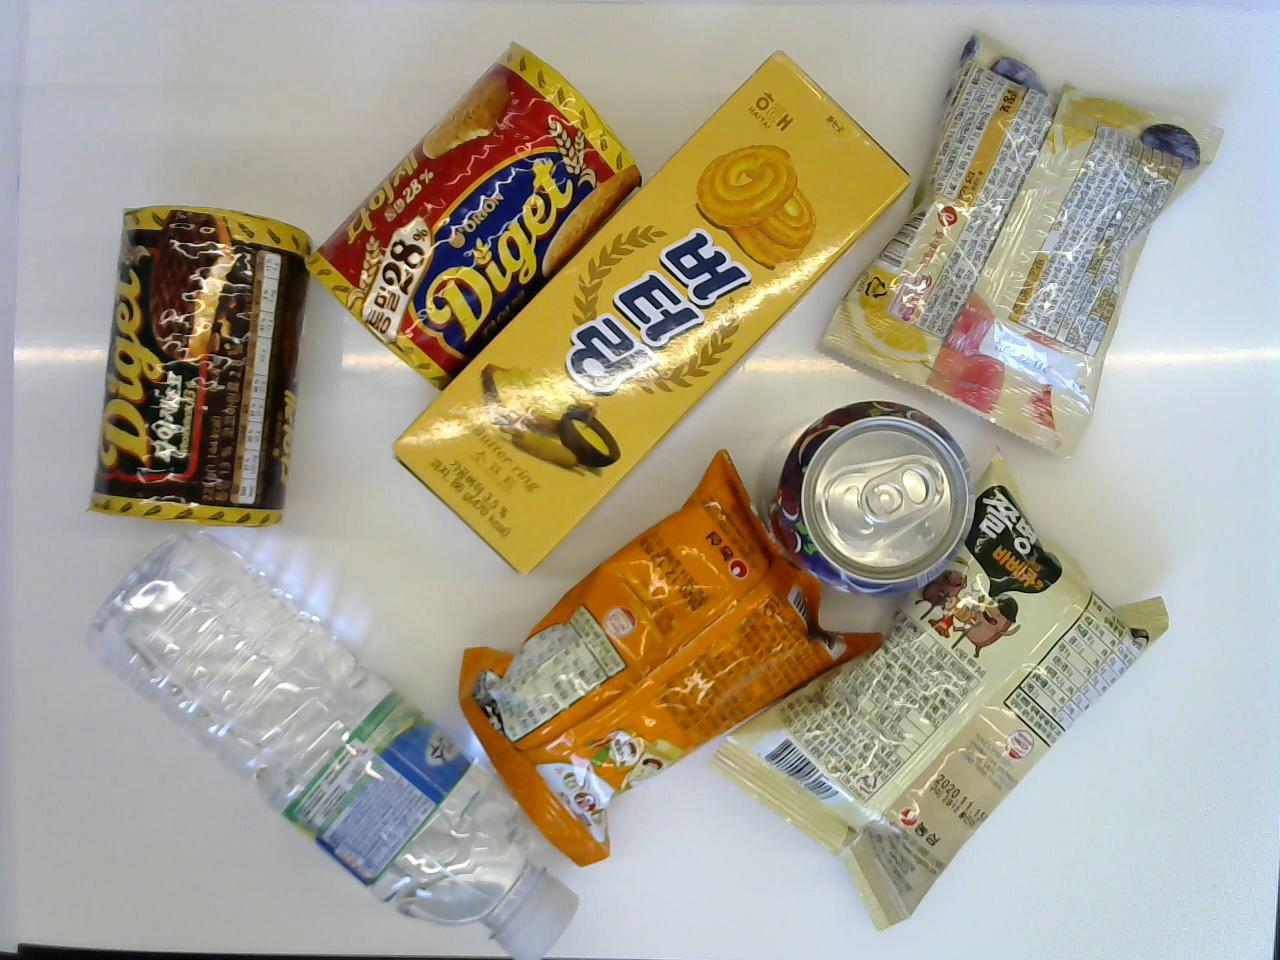buttering: (382, 44, 917, 581)
diget_choco: (79, 197, 312, 533)
diget_ori: (292, 38, 649, 387)
gumi_gumi: (813, 20, 1224, 460)
jjolbyung_noodle: (453, 450, 858, 870)
jjolbyung_ori: (700, 445, 1167, 933)
samdasu: (67, 525, 564, 951)
welchs: (759, 397, 971, 598)
